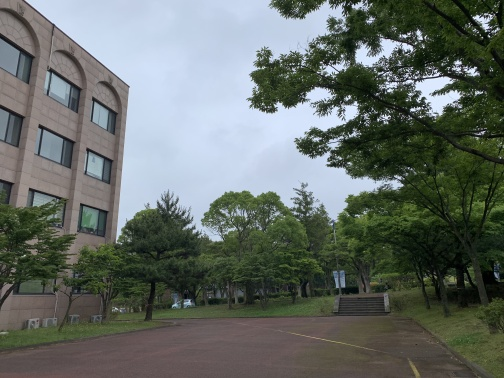Natural Science2: (1, 2, 130, 343)
